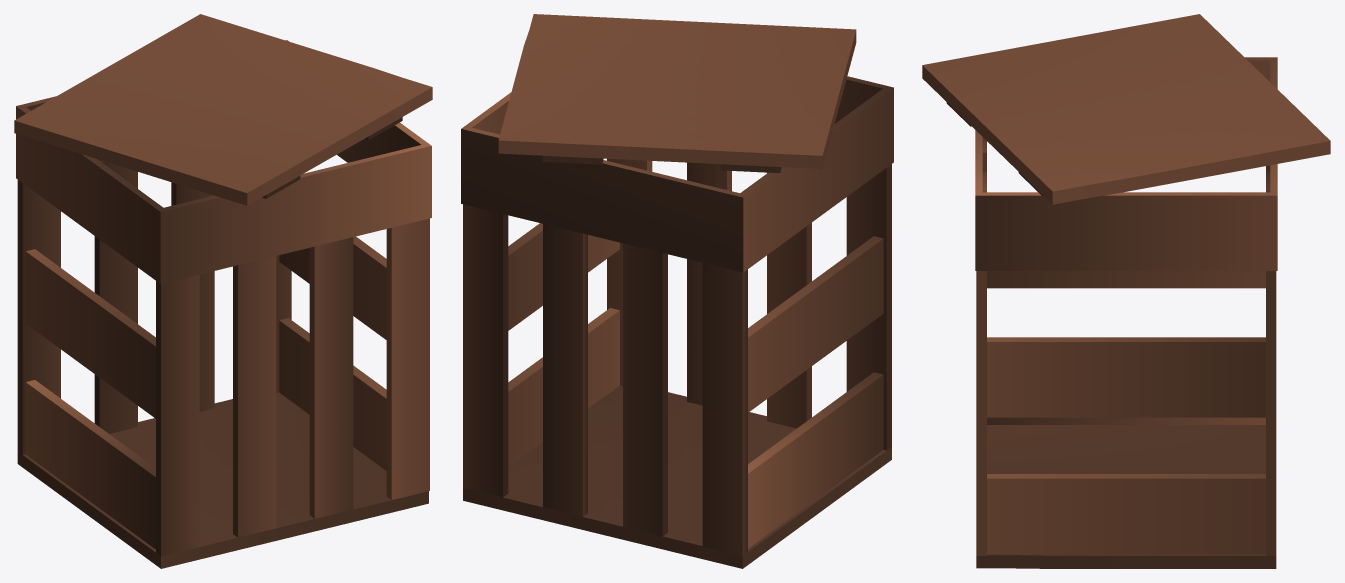
File: Tall Cherry Crate Open Lid.fbx
3 renders of one model, left to right at view 1: azimuth 30°, elevation 25°; view 2: azimuth 150°, elevation 25°; view 3: azimuth 270°, elevation 25°, orthographic. The views are drawn at different scales.
Visible parts, largest first — view 1: Tall Cherry Crate Open Lid; view 2: Tall Cherry Crate Open Lid; view 3: Tall Cherry Crate Open Lid.
Part boxes in pixels (x1,y1,x2,y2): Tall Cherry Crate Open Lid: [14, 14, 432, 568]; Tall Cherry Crate Open Lid: [461, 14, 893, 568]; Tall Cherry Crate Open Lid: [922, 14, 1330, 568].
Bounding box in the file's own units: 302 × 281 × 289.
1 material, 1 textured.
